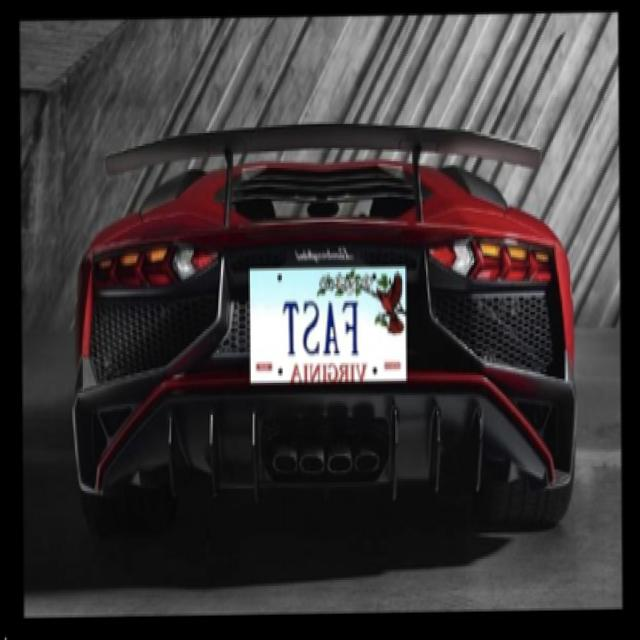licence: (250, 265, 410, 384)
